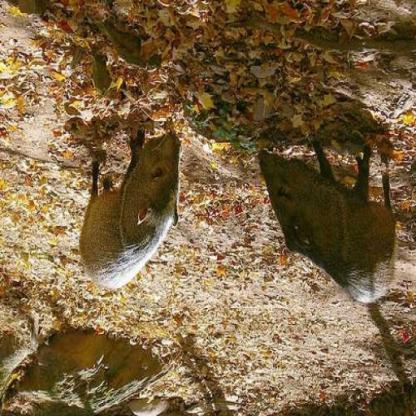boar: (256, 114, 410, 300), (72, 121, 202, 300)
